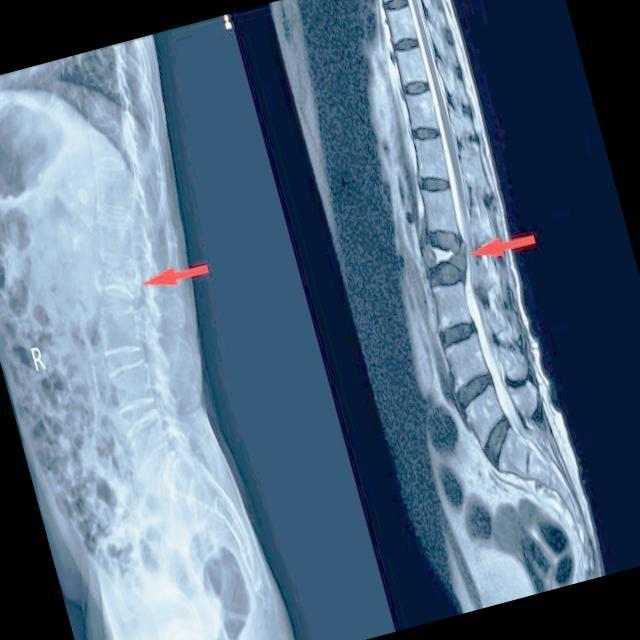Compression-Crush Fracutre: (83, 264, 167, 304), (407, 232, 471, 284)
